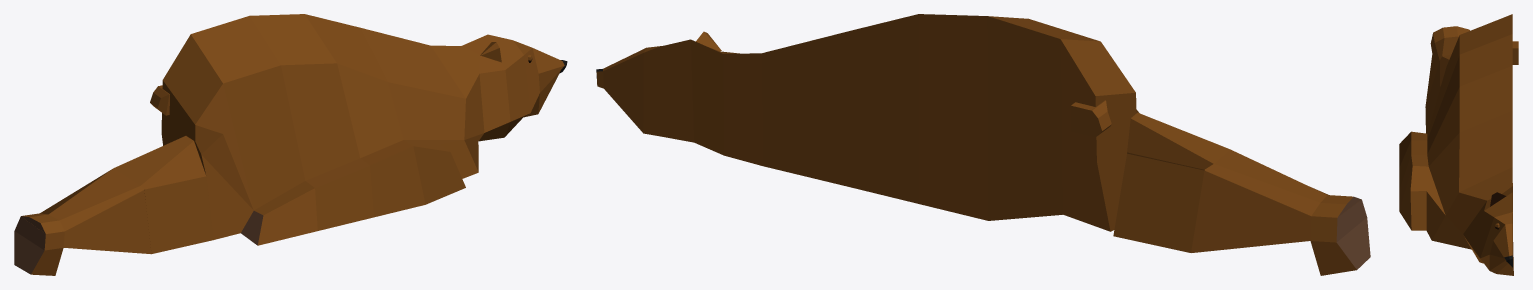
File: bear.glb
3 views of the same model, side by side, from view 1: azimuth 30°, elevation 25°; view 2: azimuth 150°, elevation 25°; view 3: azimuth 270°, elevation 25° (orthographic). The views are drawn at different scales.
Parts seen in each view (by area): view 1: Cube; view 2: Cube; view 3: Cube.
Part boxes in pixels (left/top/right/bottom): Cube: left=14, top=14, right=567, bottom=275; Cube: left=596, top=14, right=1370, bottom=275; Cube: left=1399, top=14, right=1518, bottom=275.
Bounding box in the file's own units: 5.72 × 1.55 × 1.24.
